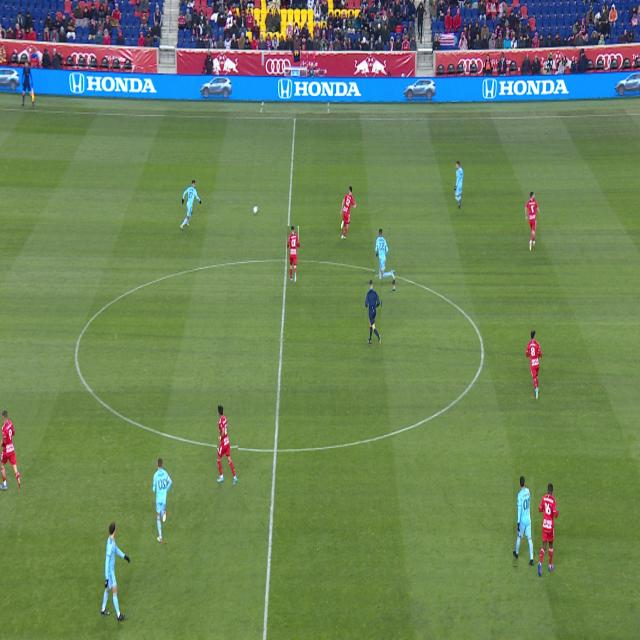football: (253, 206, 258, 214)
player: (101, 522, 130, 621), (538, 484, 559, 577), (513, 476, 534, 566), (217, 406, 238, 485), (0, 410, 20, 492), (153, 459, 172, 543), (375, 229, 395, 291), (180, 180, 201, 230), (527, 331, 541, 400), (340, 186, 356, 239), (525, 192, 539, 251), (288, 226, 299, 283), (454, 161, 464, 208)
referee: (366, 280, 381, 347)
